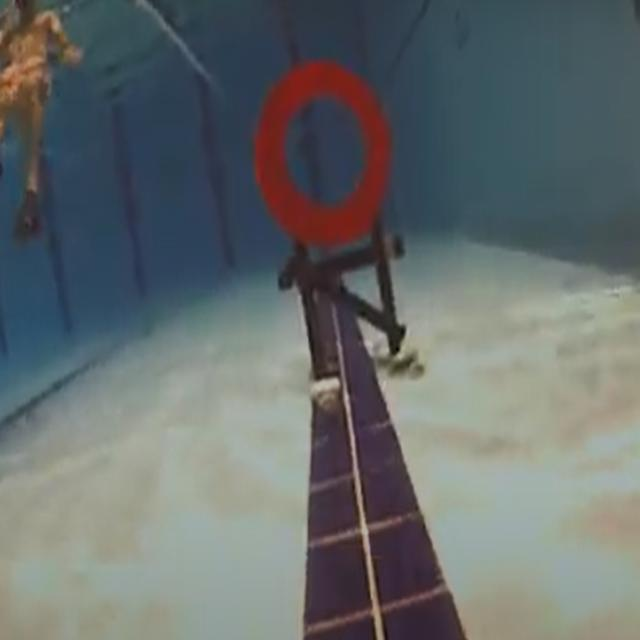Circle: (252, 51, 392, 242)
